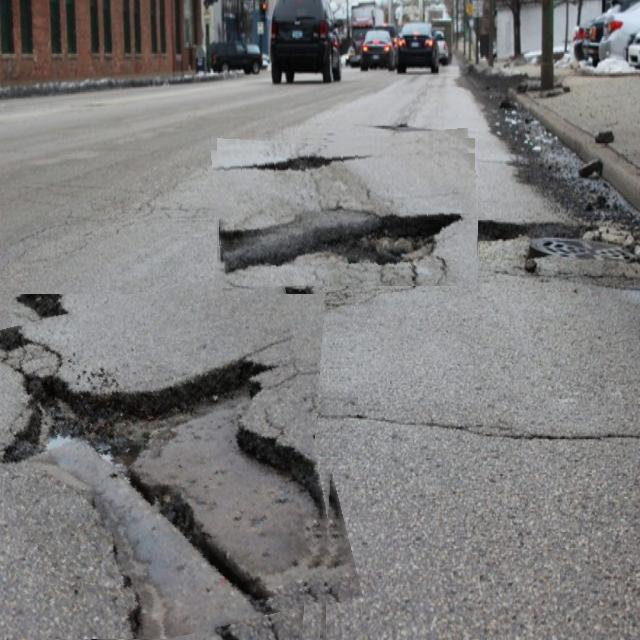Pothole: (0, 277, 344, 640), (214, 133, 478, 286)
